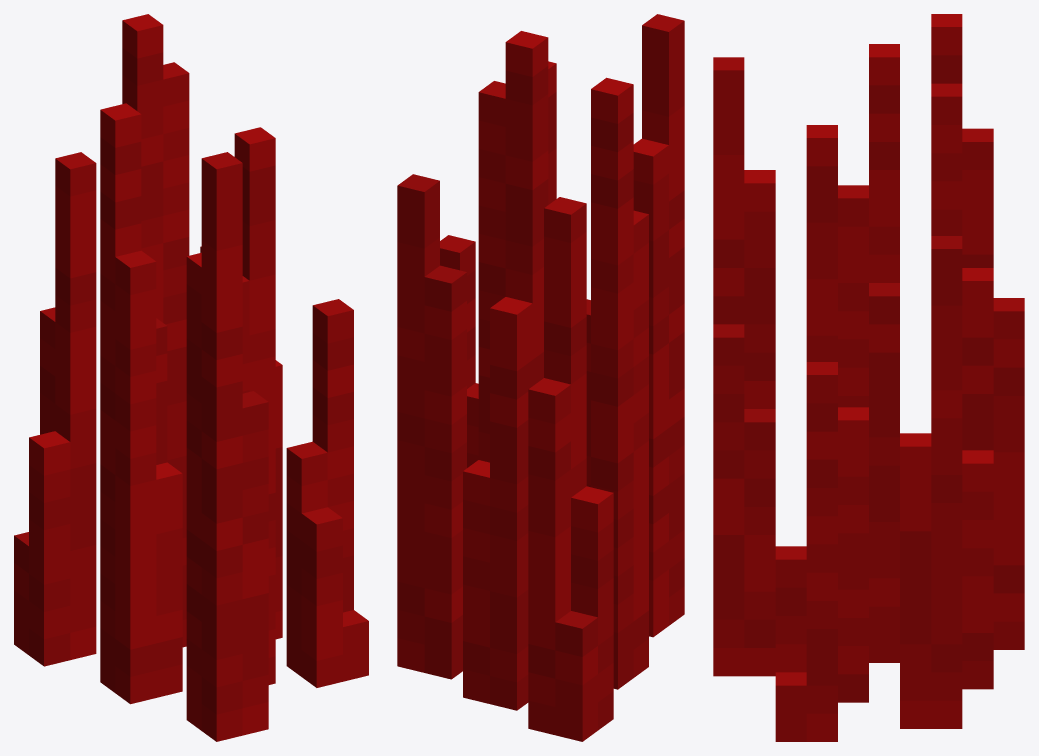
File: Coral_Alto.obj
The picture shows the model from 3 angles, left to right: view 1: azimuth 30°, elevation 25°; view 2: azimuth 150°, elevation 25°; view 3: azimuth 270°, elevation 25°; orthographic projection. The views are drawn at different scales.
Bounding box in the file's own units: 0.9 × 2.3 × 1.
1 material, 1 textured.
